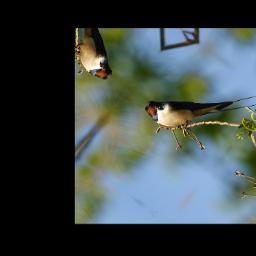Swallow: (140, 46, 256, 163)
